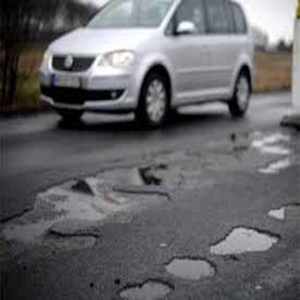pothole: (1, 162, 167, 253), (213, 222, 280, 258), (165, 253, 219, 281), (118, 276, 176, 299), (268, 200, 300, 224)
